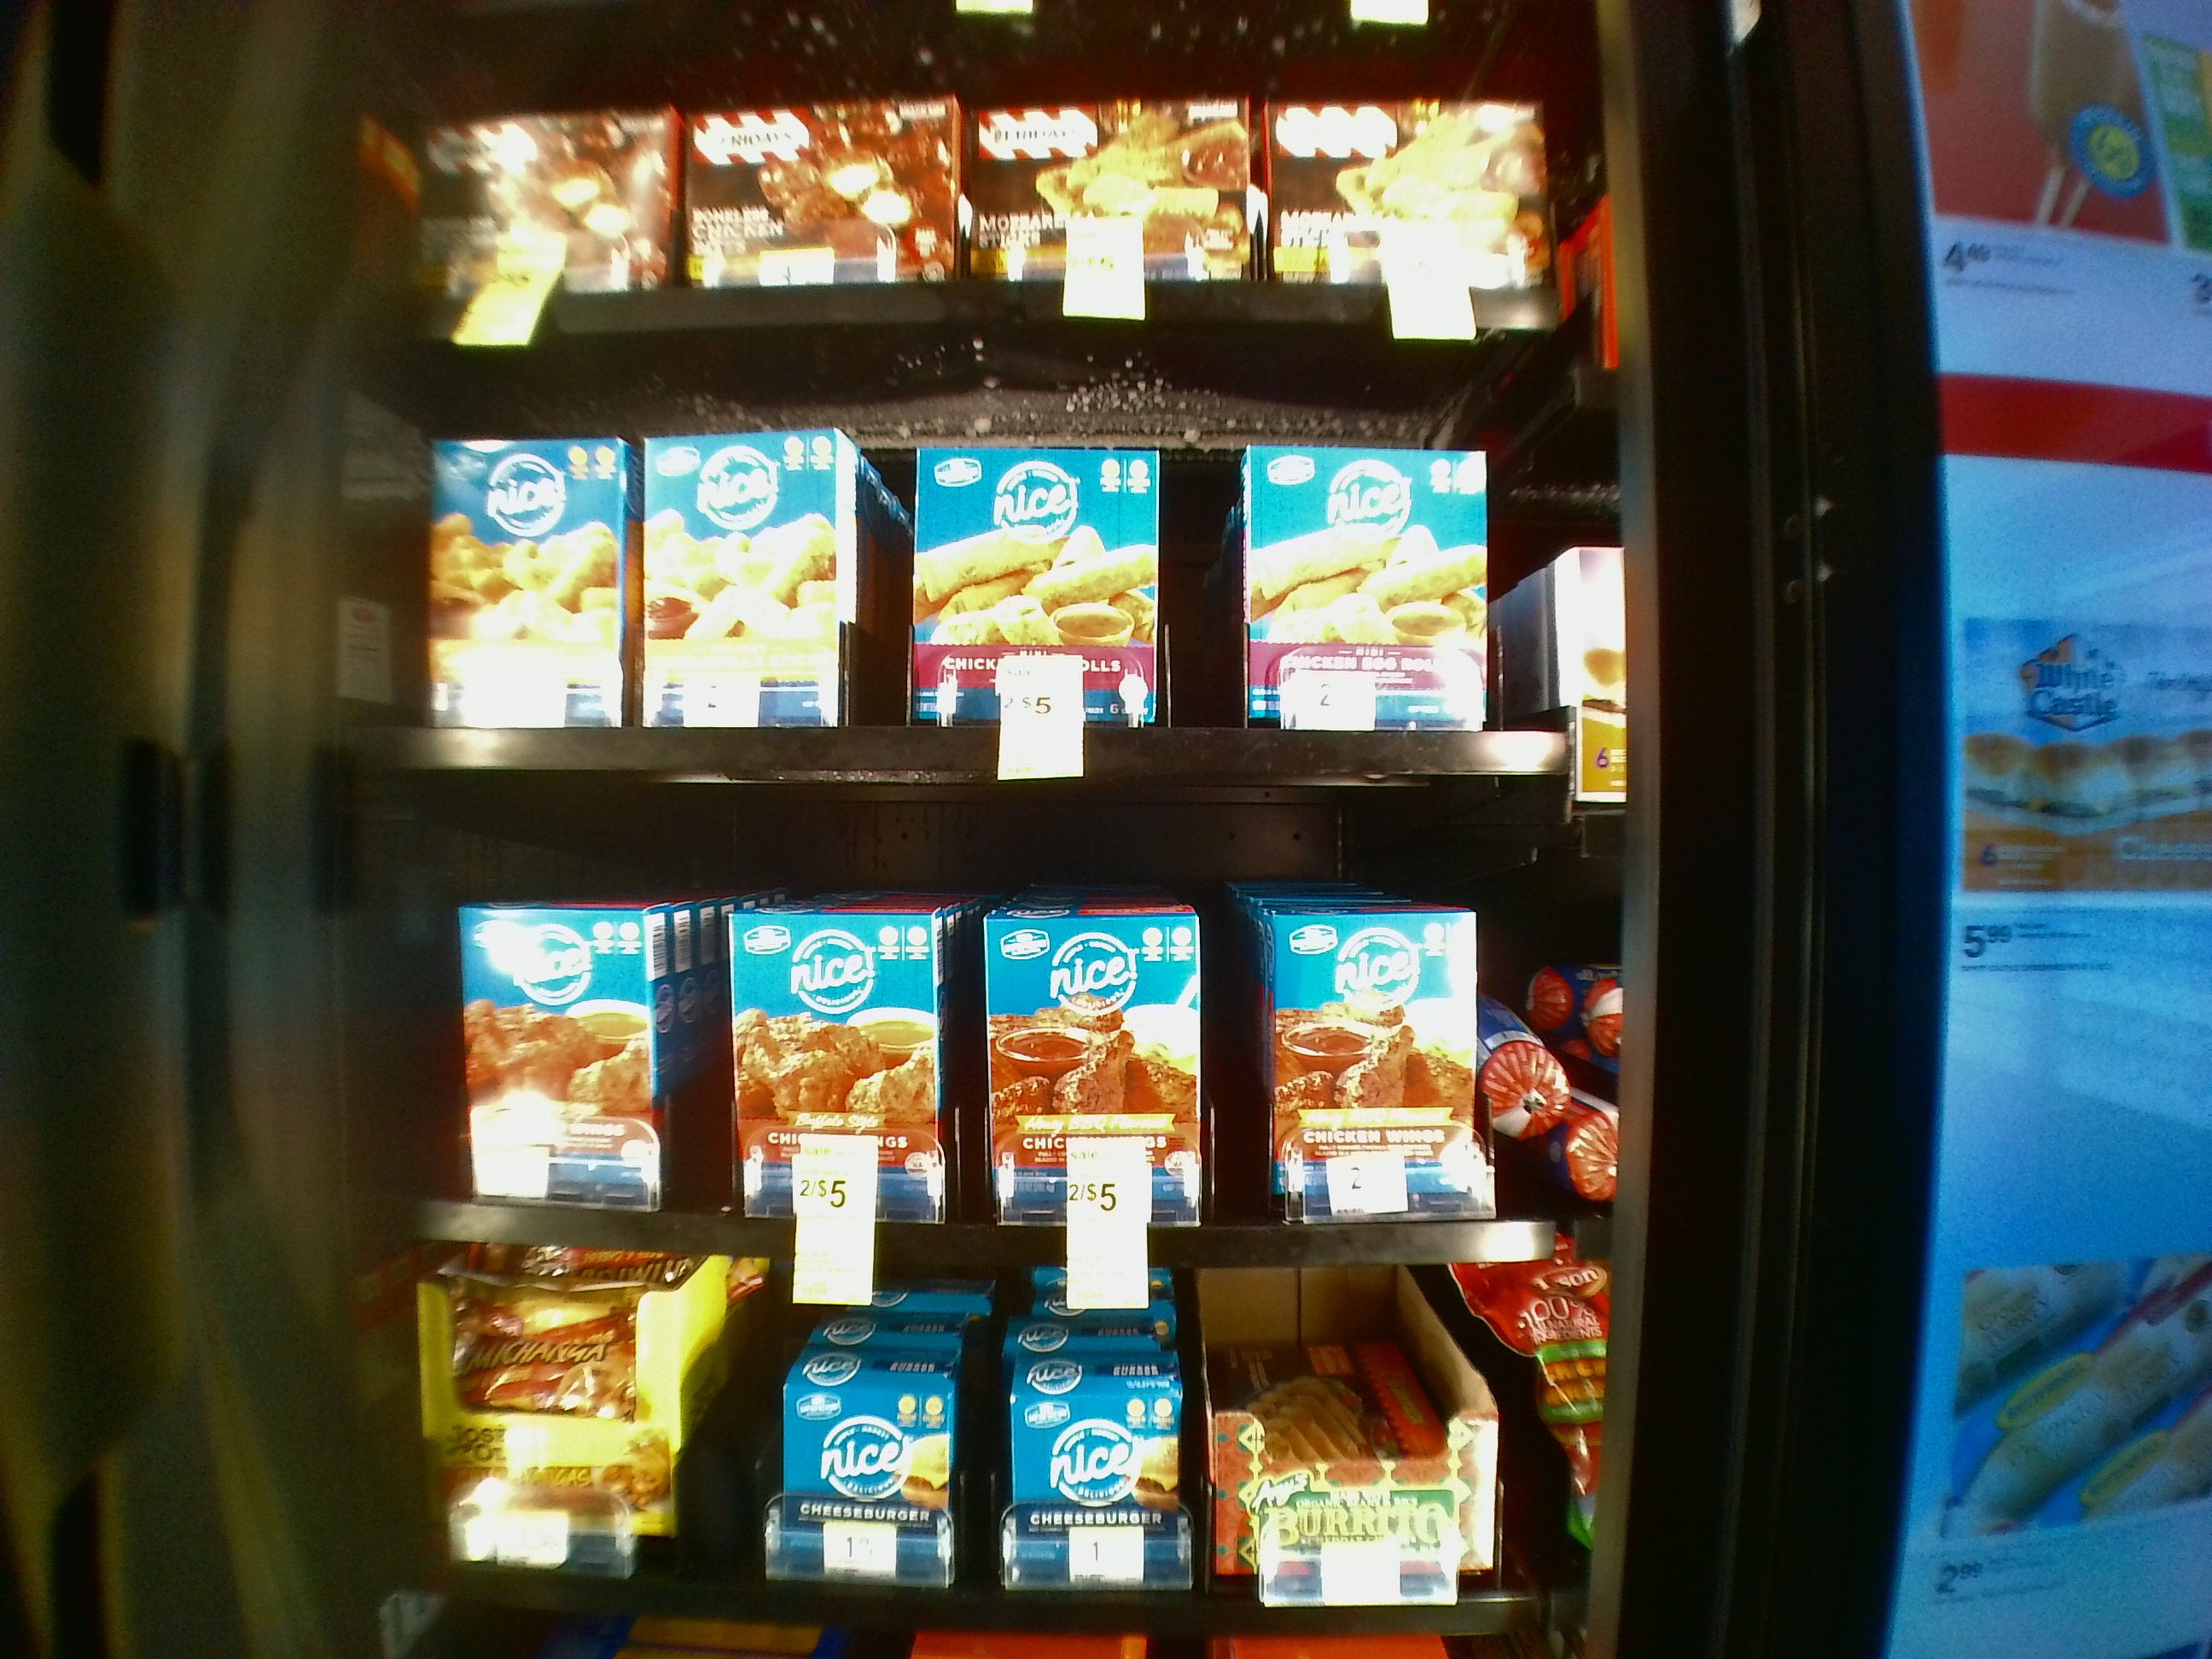shelf: (364, 796, 1609, 1265), (364, 342, 1606, 779)
